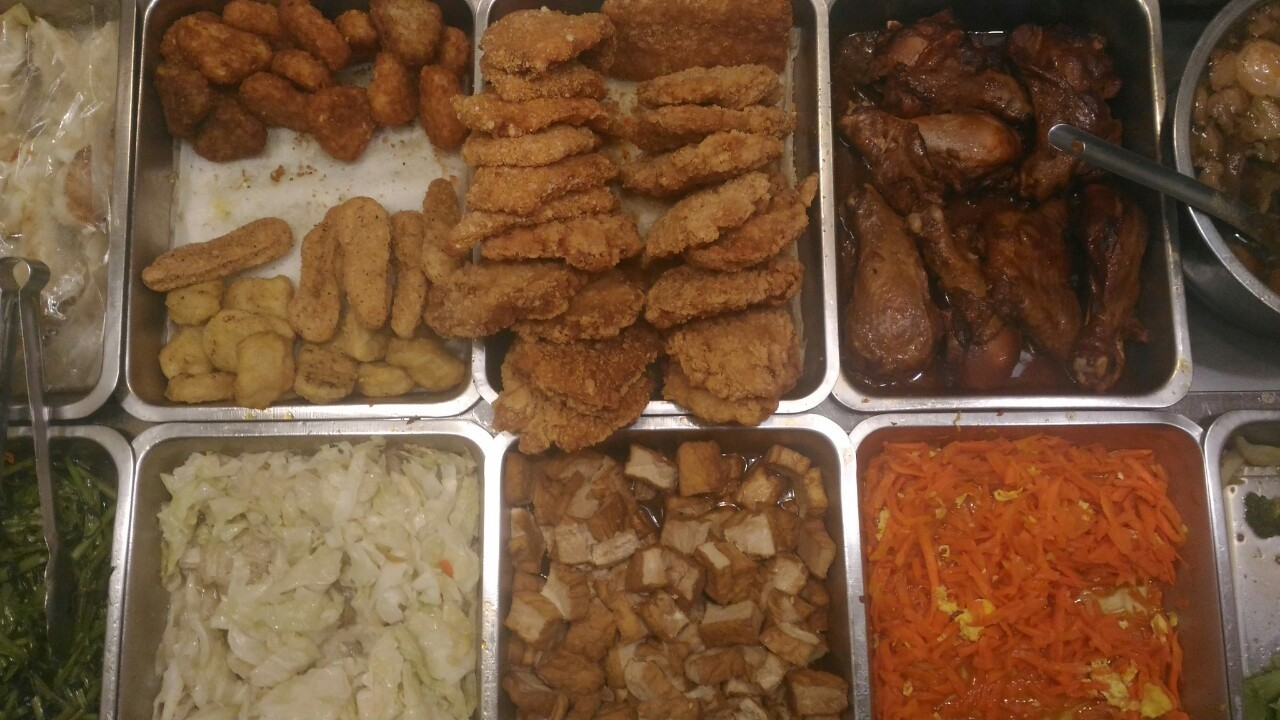carrot_eggs: (868, 437, 1193, 713)
chicken_nuggets: (158, 222, 430, 403)
chinese_cabbage: (141, 451, 479, 720)
fried_chicken: (493, 11, 792, 421)
triangle_hash_brown: (162, 2, 452, 152)
water_spinach: (1, 472, 100, 716)
